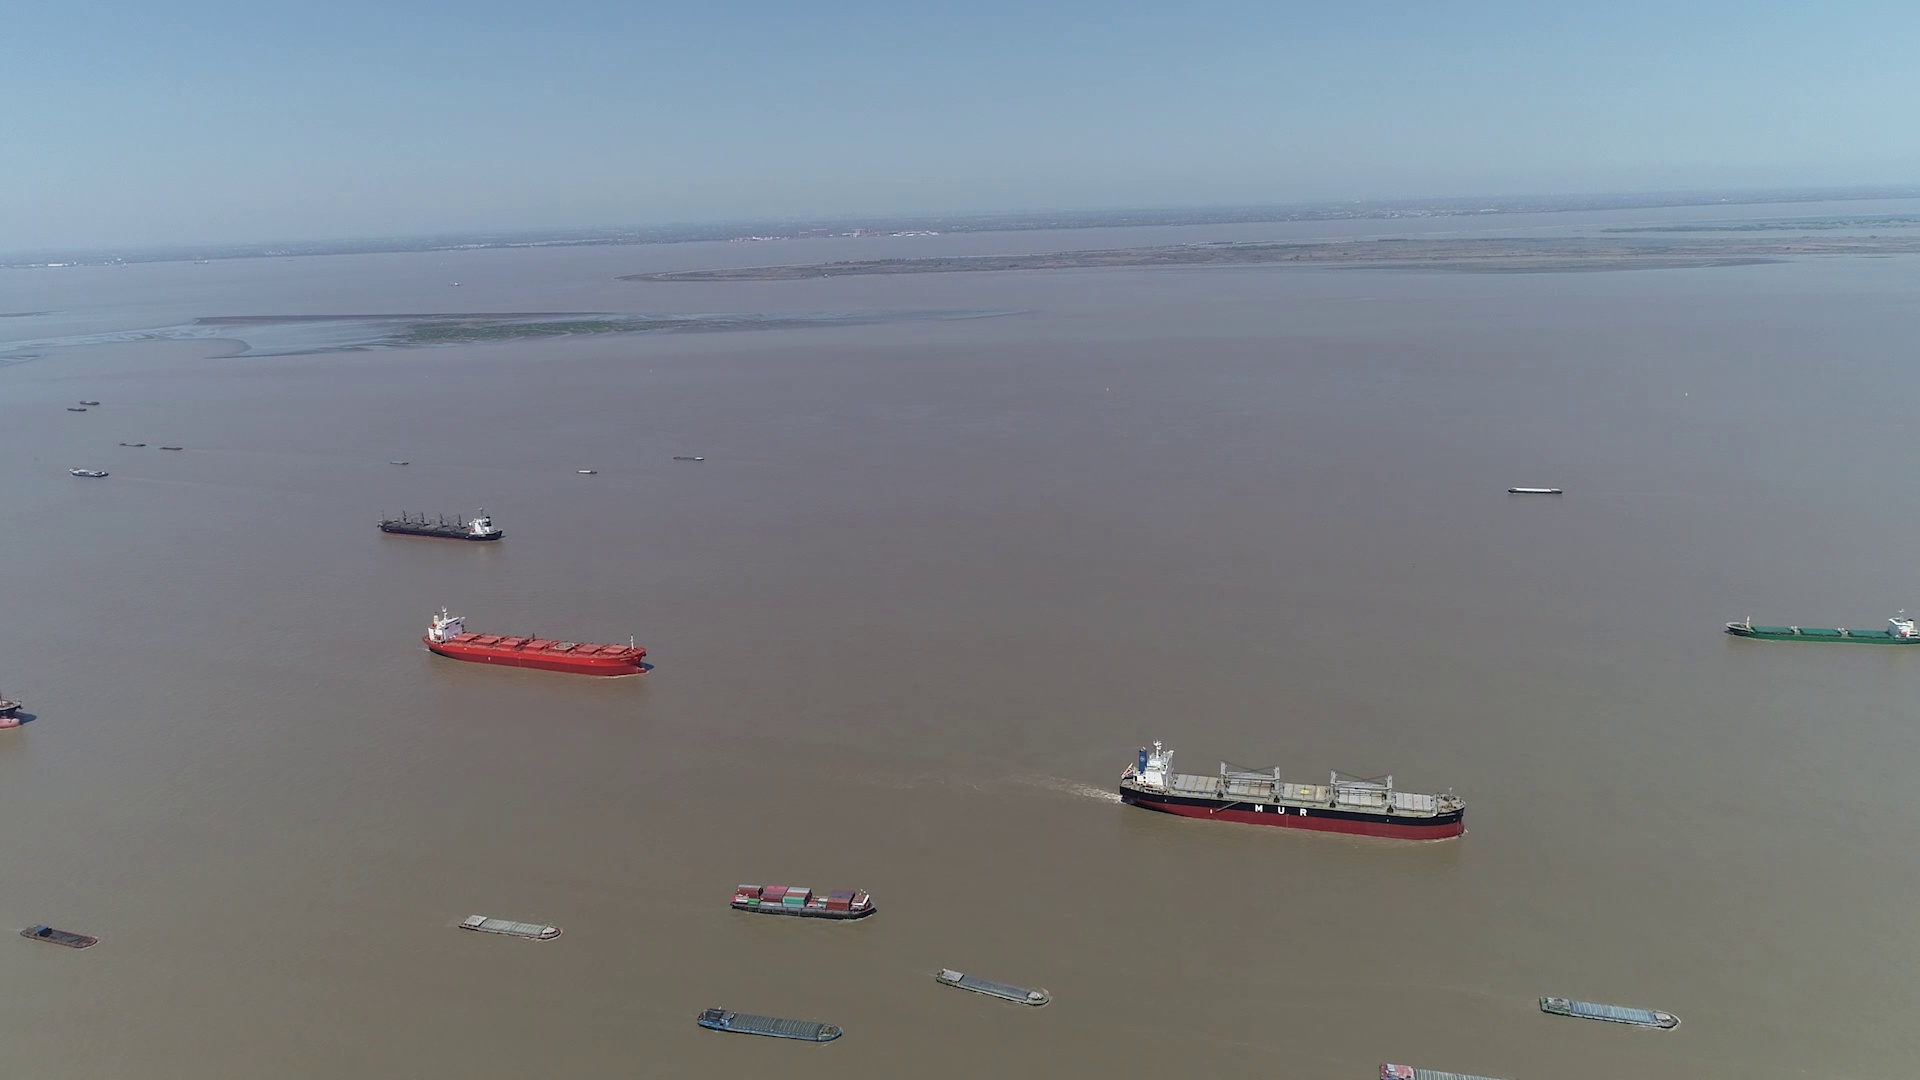ship: (1120, 742, 1465, 840), (422, 607, 647, 675), (1724, 611, 1919, 645), (729, 881, 878, 919), (700, 1009, 843, 1044), (1540, 996, 1680, 1030), (935, 968, 1051, 1007), (378, 508, 502, 542), (460, 913, 562, 939), (1379, 1060, 1503, 1080), (22, 924, 98, 949), (1, 684, 34, 733), (1506, 487, 1563, 496), (70, 467, 111, 477), (673, 455, 704, 462)
